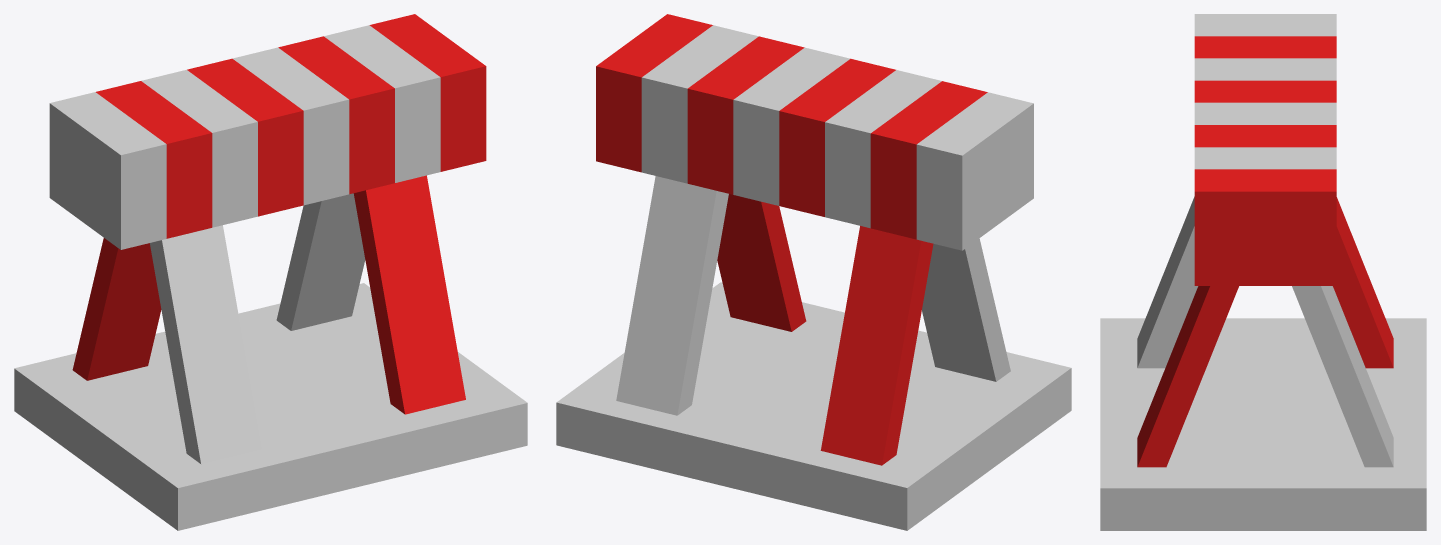
File: jumpob.FBX
3 renders of one model, left to right at view 1: azimuth 30°, elevation 25°; view 2: azimuth 150°, elevation 25°; view 3: azimuth 270°, elevation 25°, orthographic.
Parts seen in each view (by area): view 1: Box002; view 2: Box002; view 3: Box002.
Boxes of the visible parts, x1,y1,x2,y2 form: Box002: [14, 14, 527, 530]; Box002: [556, 14, 1071, 530]; Box002: [1100, 14, 1426, 530].
Bounding box in the file's own units: 25.18 × 22.62 × 19.55.
